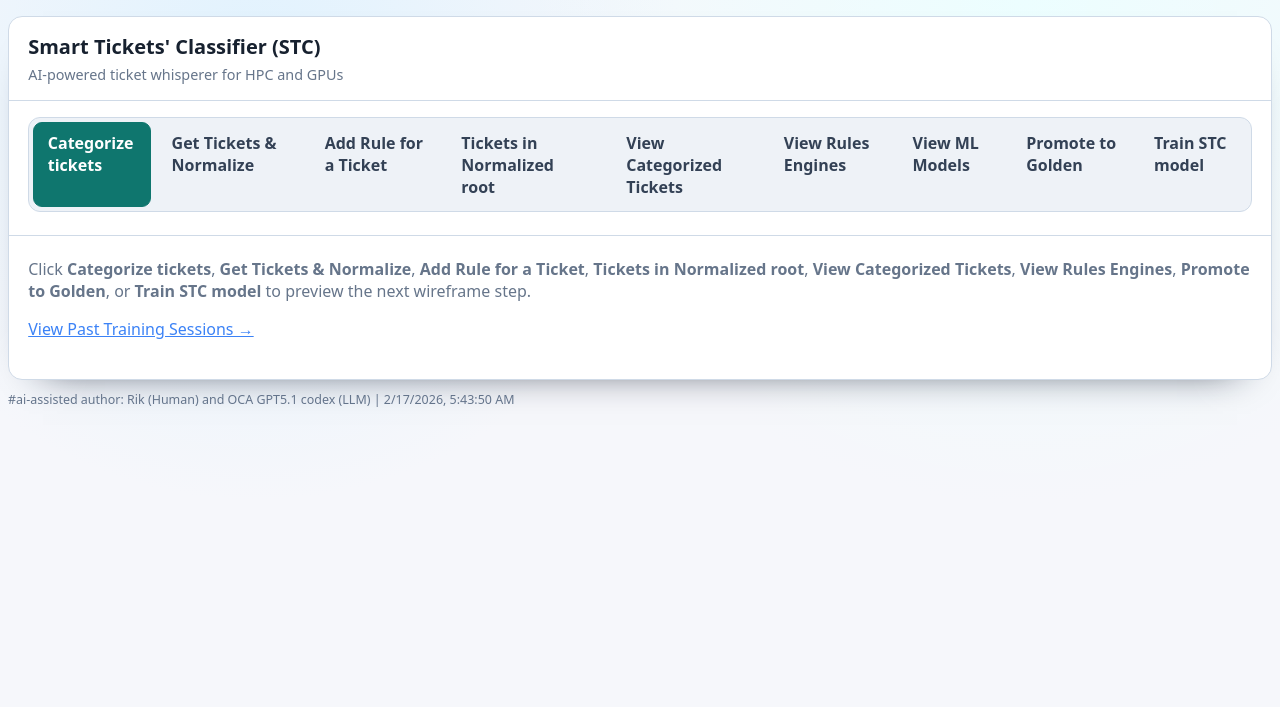
Scenario: STC wireframe flow › shows explicit add-rule failure message when the run errors
This screenshot has width=1280, height=707.
Click the link "Add Rule for a Ticket": (374, 154) [325, 132, 423, 176]
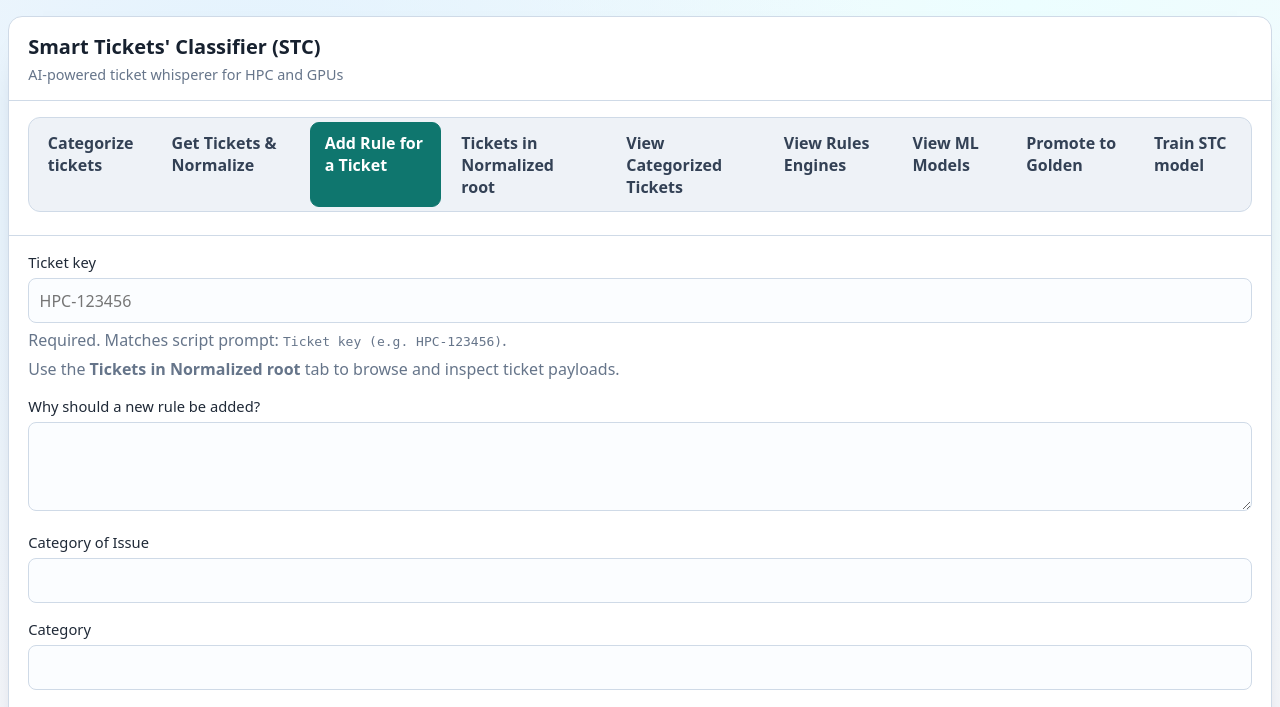
In the field labelled "Ticket key": (640, 301) [28, 278, 1252, 323], type "HPC-123"
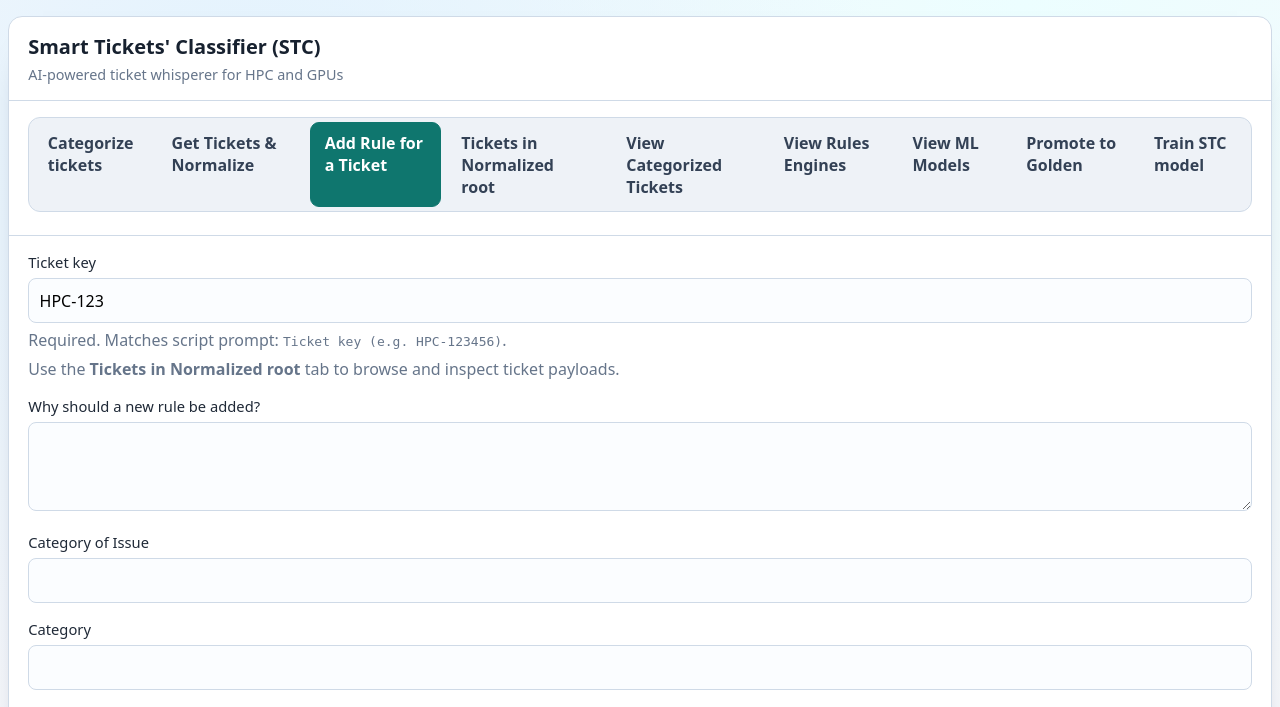
In the text box labelled "Why should a new rule be added?": (640, 466) [28, 422, 1252, 511], type "Repeat incident pattern"
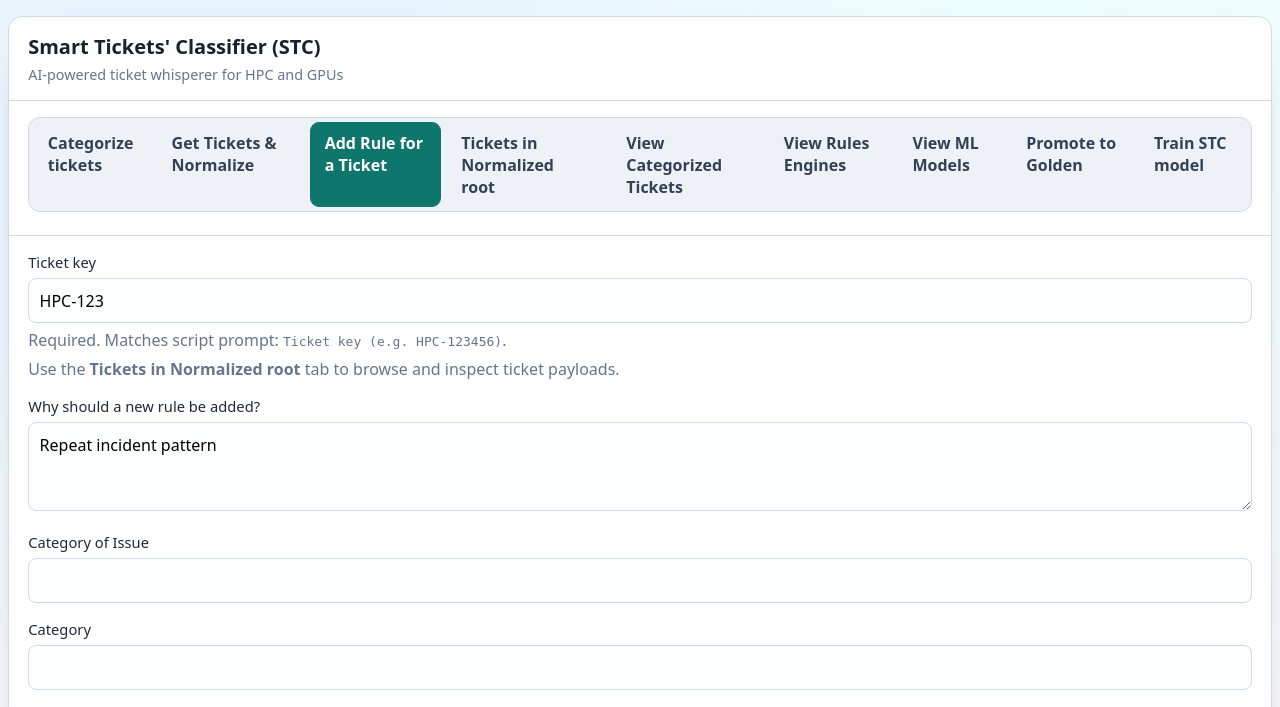
In the field labelled "Category of Issue": (640, 581) [28, 558, 1252, 603], type "network"
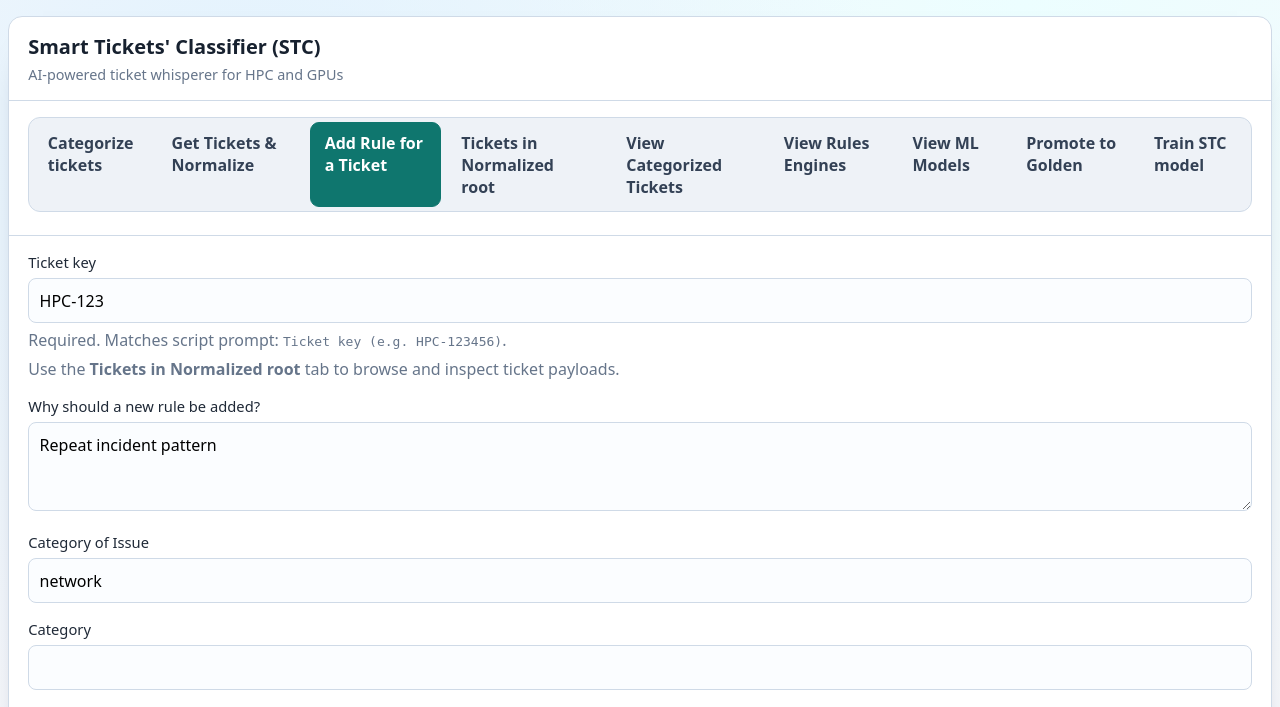
In the field labelled "Category": (640, 668) [28, 646, 1252, 690], type "switch"
(page scrolled)
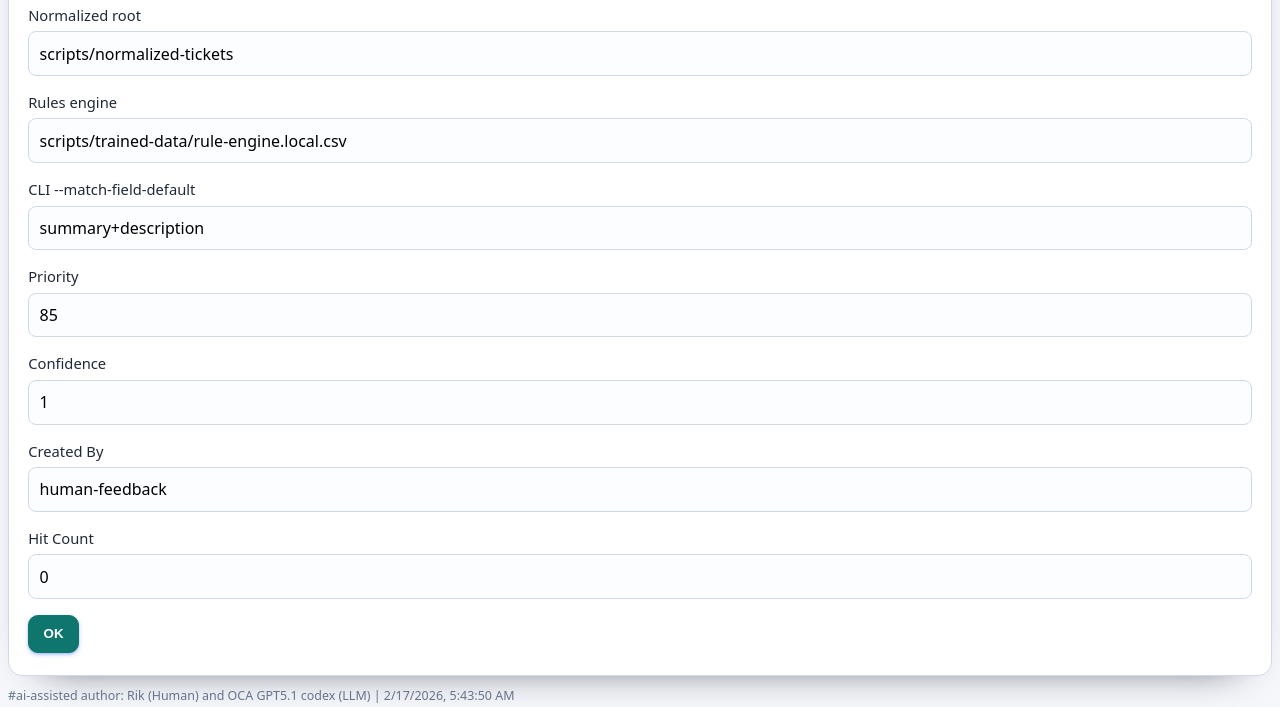
Click the button "OK": (54, 634) [28, 615, 79, 653]
(page scrolled)
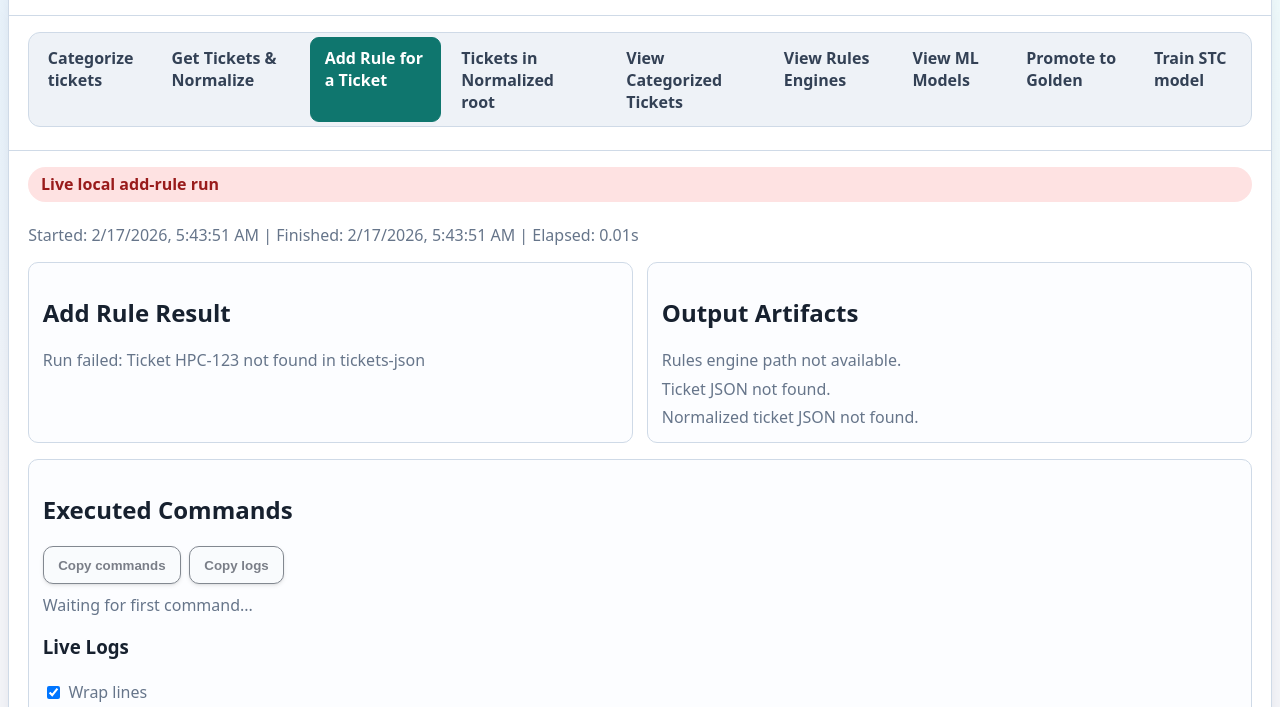
Result: the text "Run failed: Ticket HPC-123 not found in tickets-json" is shown at [43, 349, 425, 371]
